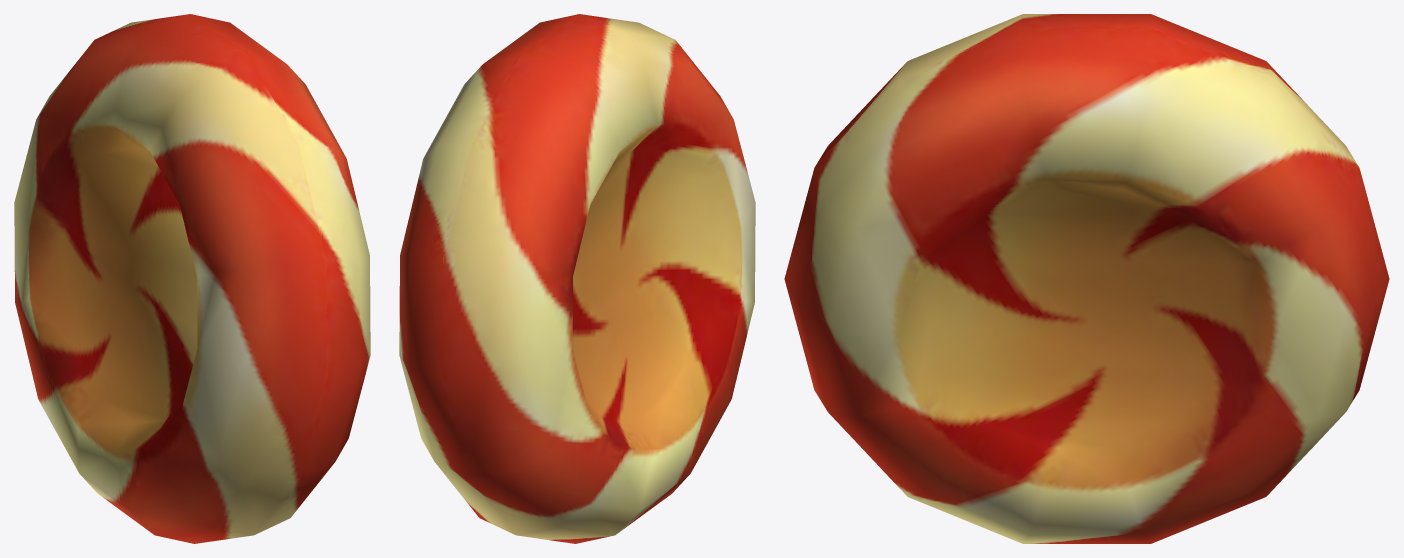
Rendered from candy1.fbx.
3 views of the same model, side by side, from view 1: azimuth 30°, elevation 25°; view 2: azimuth 150°, elevation 25°; view 3: azimuth 270°, elevation 25° (orthographic). The views are drawn at different scales.
Parts seen in each view (by area): view 1: Object001; view 2: Object001; view 3: Object001.
Part boxes in pixels (x1,y1,x2,y2): Object001: [14, 14, 370, 543]; Object001: [399, 14, 755, 543]; Object001: [784, 14, 1389, 543].
Size of the model in its own units: 13.5 by 31.73 by 32.8.
Materials: 1 (1 with a texture image).
